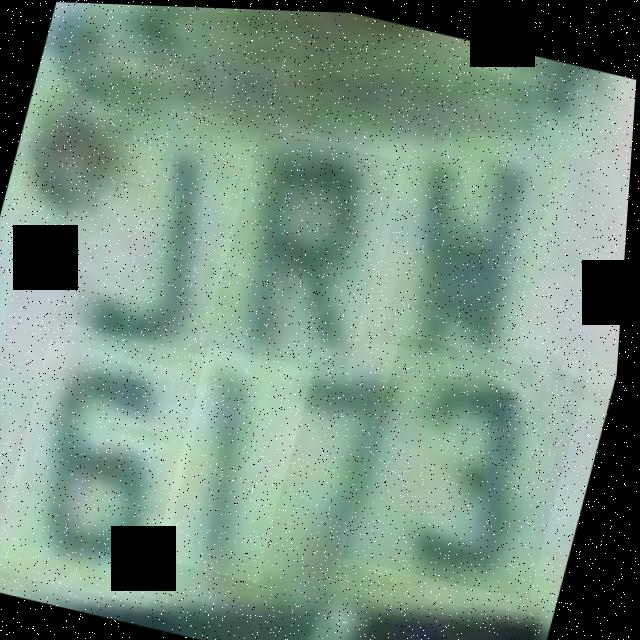1: (159, 341, 320, 582)
3: (348, 331, 594, 597)
6: (0, 319, 221, 607)
7: (242, 346, 436, 584)
B: (366, 120, 562, 369)
J: (53, 123, 250, 372)
R: (208, 125, 405, 378)
